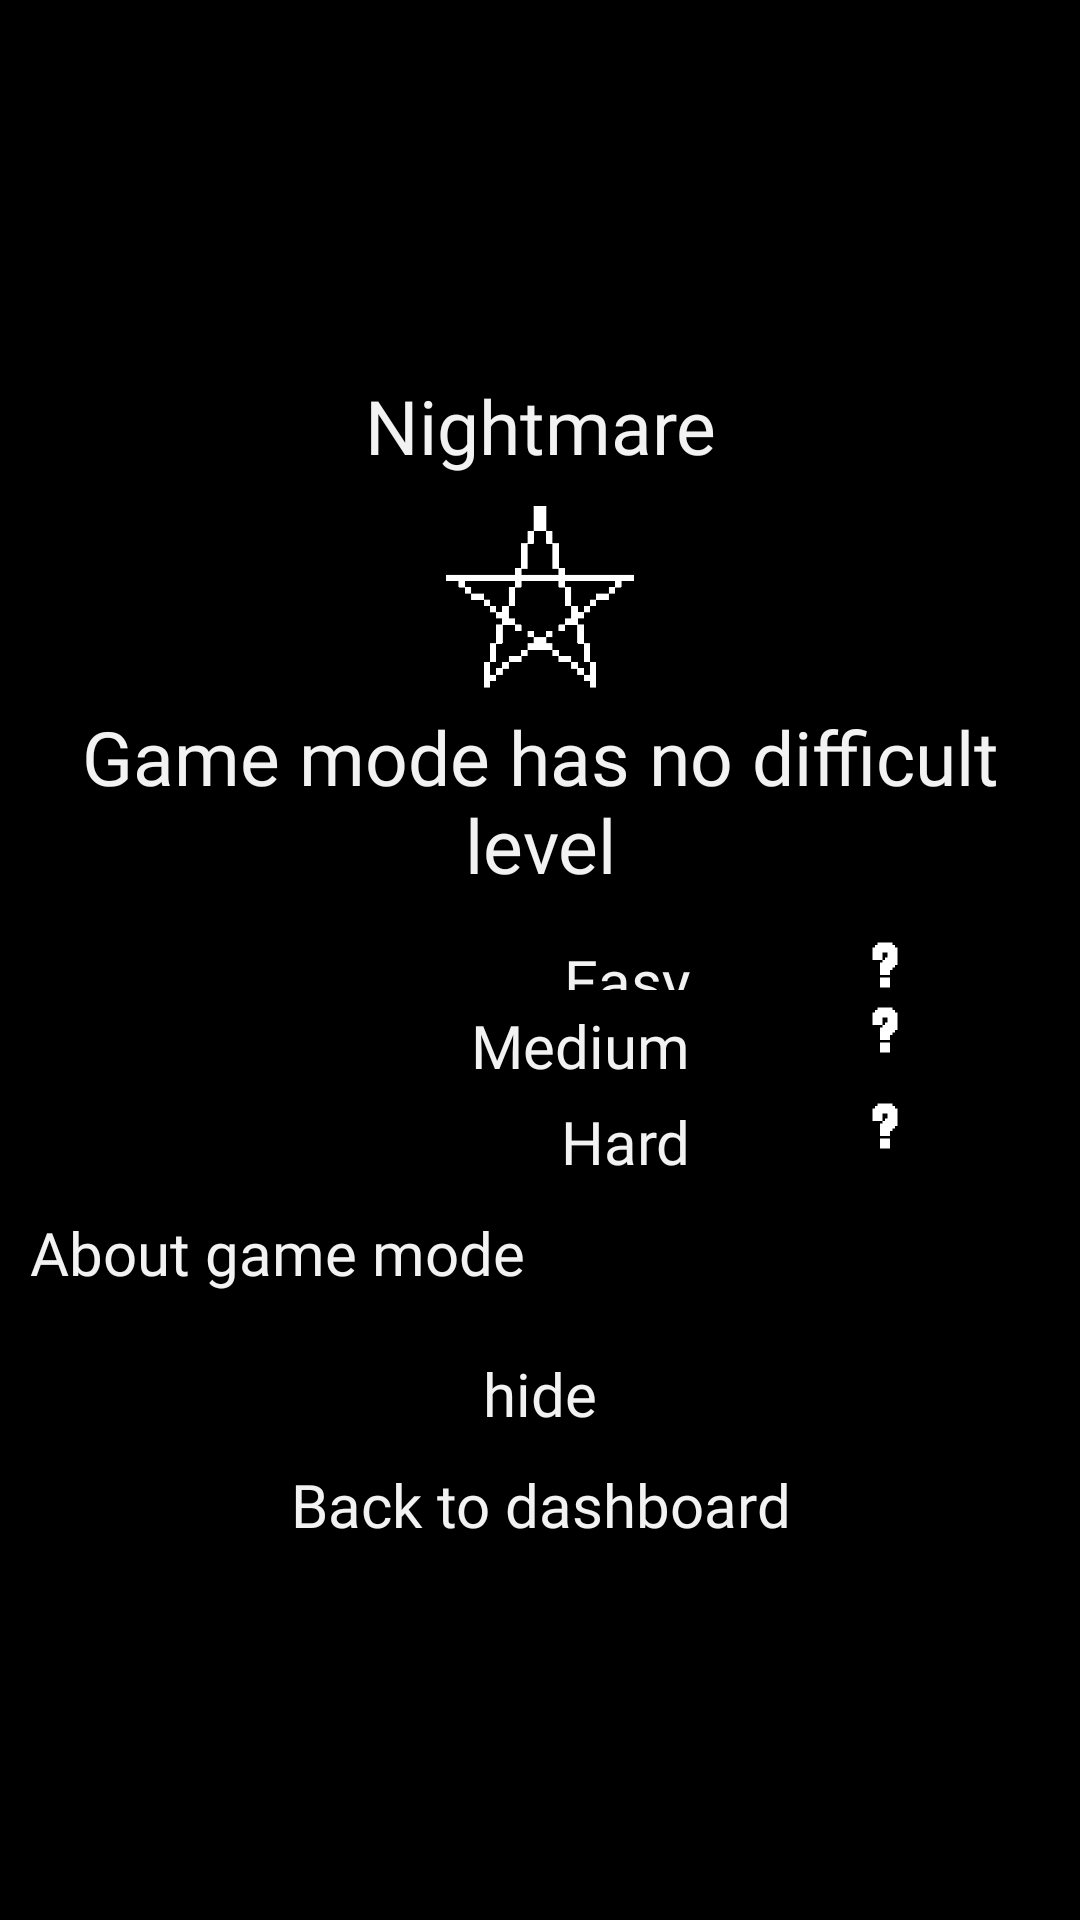

Point at icon controls on the screen. Image size 1080*1920, points as point (x, y).
pentagram anim: point (540, 597)
question mark: point (885, 965), point (885, 1030), point (885, 1126)
